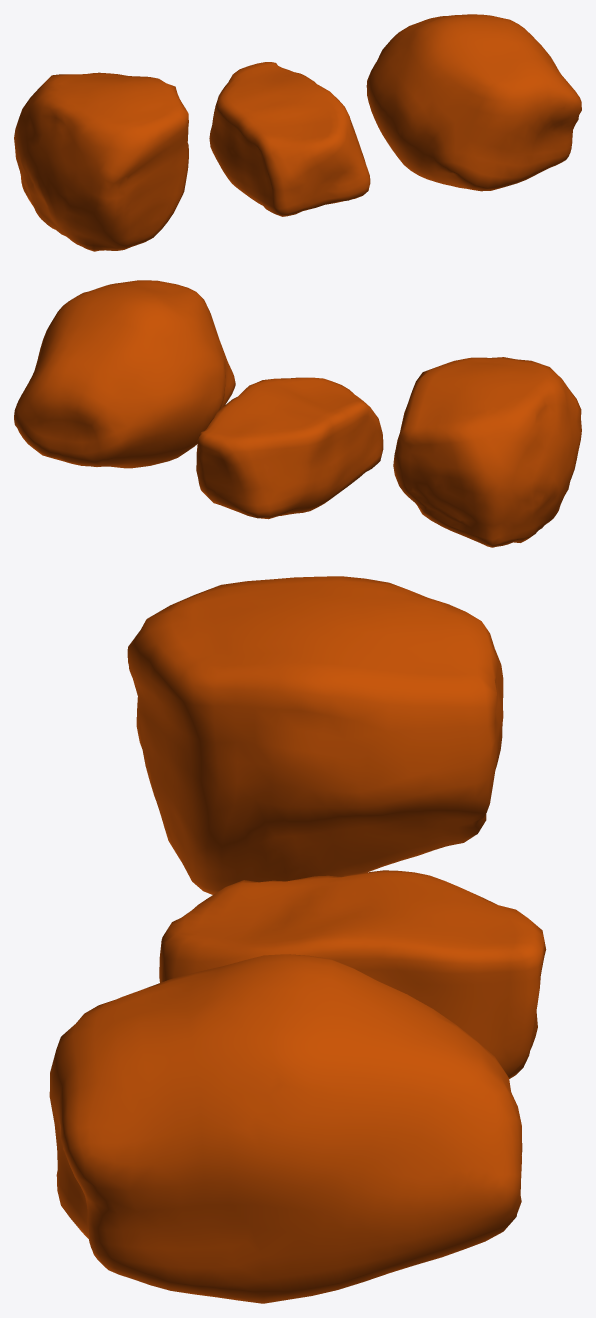
File: asteroids.fbx
3 renders of one model, top to bottom at view 1: azimuth 30°, elevation 25°; view 2: azimuth 150°, elevation 25°; view 3: azimuth 270°, elevation 25°, orthographic. The views are drawn at different scales.
Parts seen in each view (by area): view 1: asteroid3, asteroid1, asteroid2; view 2: asteroid3, asteroid1, asteroid2; view 3: asteroid3, asteroid1, asteroid2.
Part boxes in pixels (x1,y1,x2,y2): asteroid3: (366, 14, 581, 191); asteroid1: (14, 72, 188, 251); asteroid2: (209, 62, 370, 216); asteroid3: (14, 280, 235, 468); asteroid1: (393, 357, 581, 547); asteroid2: (196, 377, 383, 519); asteroid3: (49, 954, 522, 1303); asteroid1: (127, 576, 503, 894); asteroid2: (159, 870, 546, 1078).
Size of the model in its own units: 96.95 by 30.28 by 42.15.
